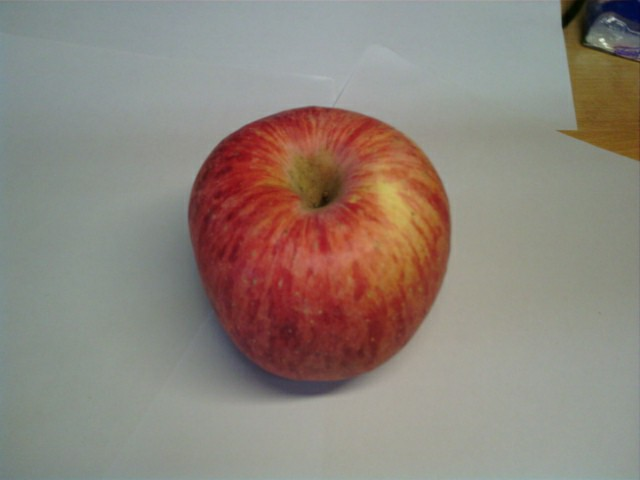normal_apple: (189, 104, 452, 383)
